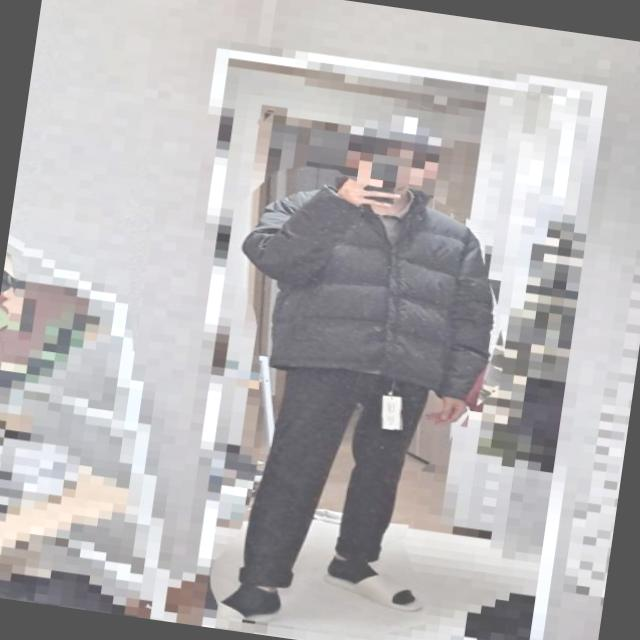denimpants: (236, 368, 429, 612)
padding: (229, 168, 516, 404)
